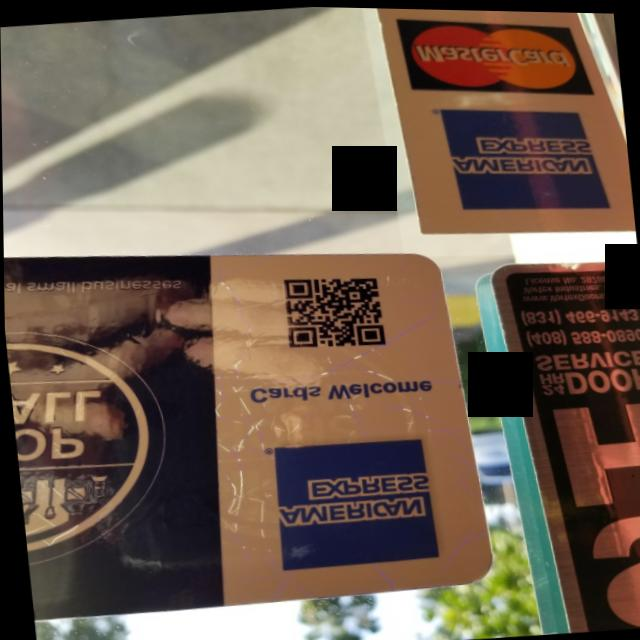QR_CODE: (268, 260, 397, 370)
